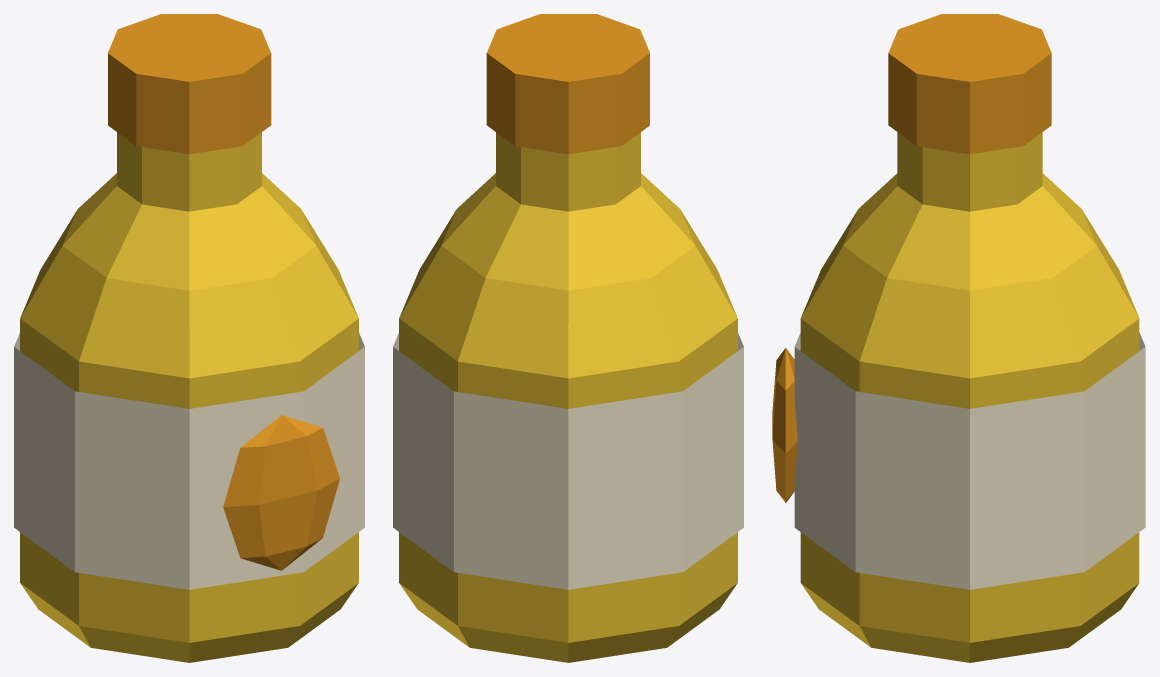
File: Food_CookingOil.obj
The picture shows the model from 3 angles, left to right: view 1: azimuth 30°, elevation 25°; view 2: azimuth 150°, elevation 25°; view 3: azimuth 270°, elevation 25°; orthographic projection.
Size of the model in its own units: 1.12 by 1.98 by 1.21.
